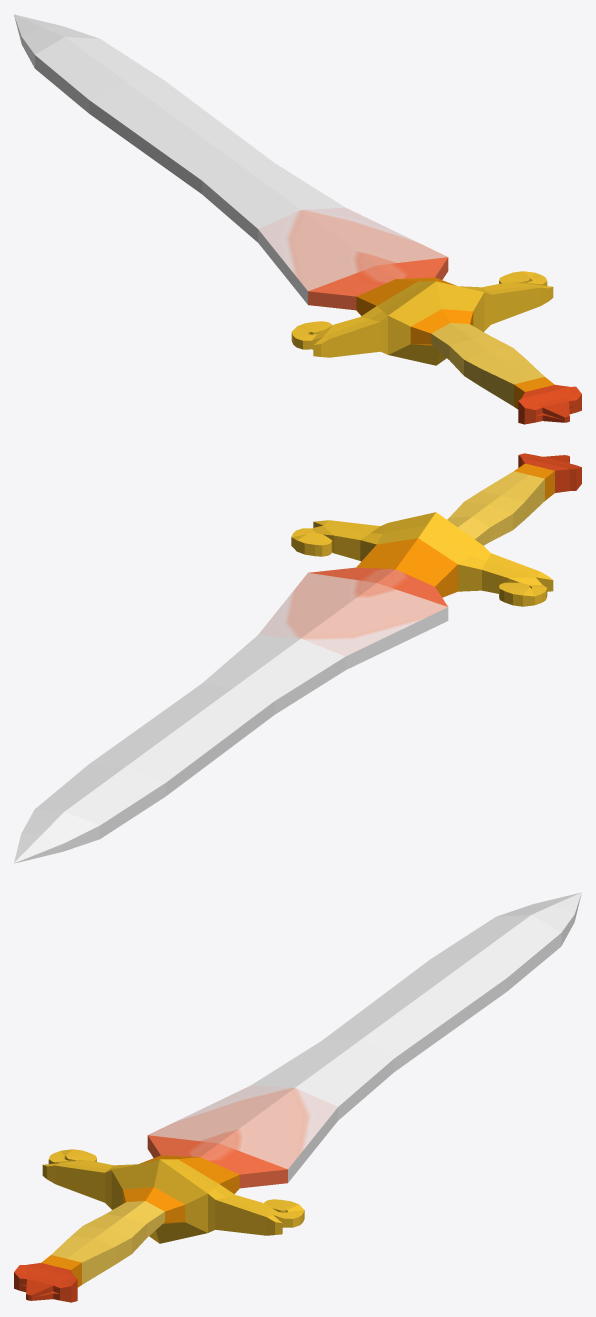
The model's file is 11-Sword.fbx.
3 renders of one model, top to bottom at view 1: azimuth 30°, elevation 25°; view 2: azimuth 150°, elevation 25°; view 3: azimuth 330°, elevation 25°, orthographic.
Parts seen in each view (by area): view 1: Weapon11; view 2: Weapon11; view 3: Weapon11.
Part boxes in pixels (x1,y1,x2,y2): Weapon11: (14, 14, 581, 424); Weapon11: (14, 453, 581, 863); Weapon11: (14, 892, 581, 1302).
Bounding box in the file's own units: 139 × 44.78 × 532.
